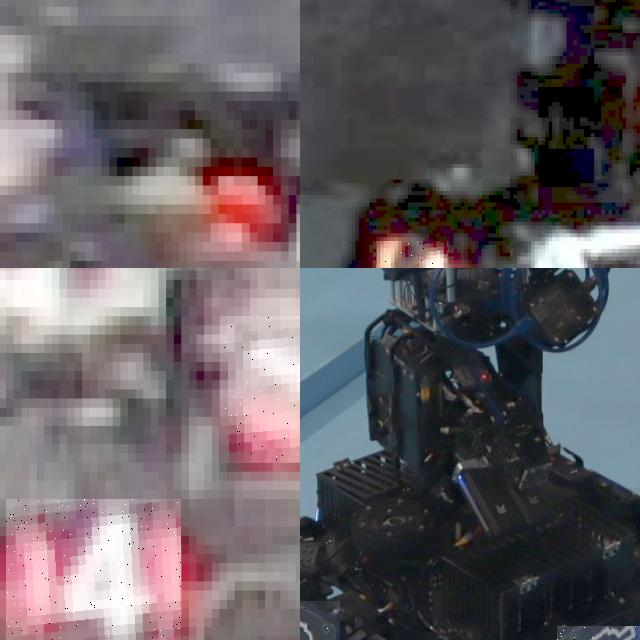R4: (6, 499, 181, 640), (219, 316, 300, 462)
Rs: (376, 241, 450, 268)
